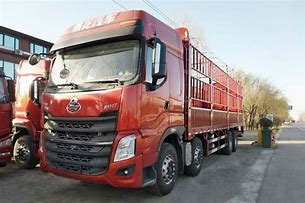bigtruck: (41, 7, 247, 196)
